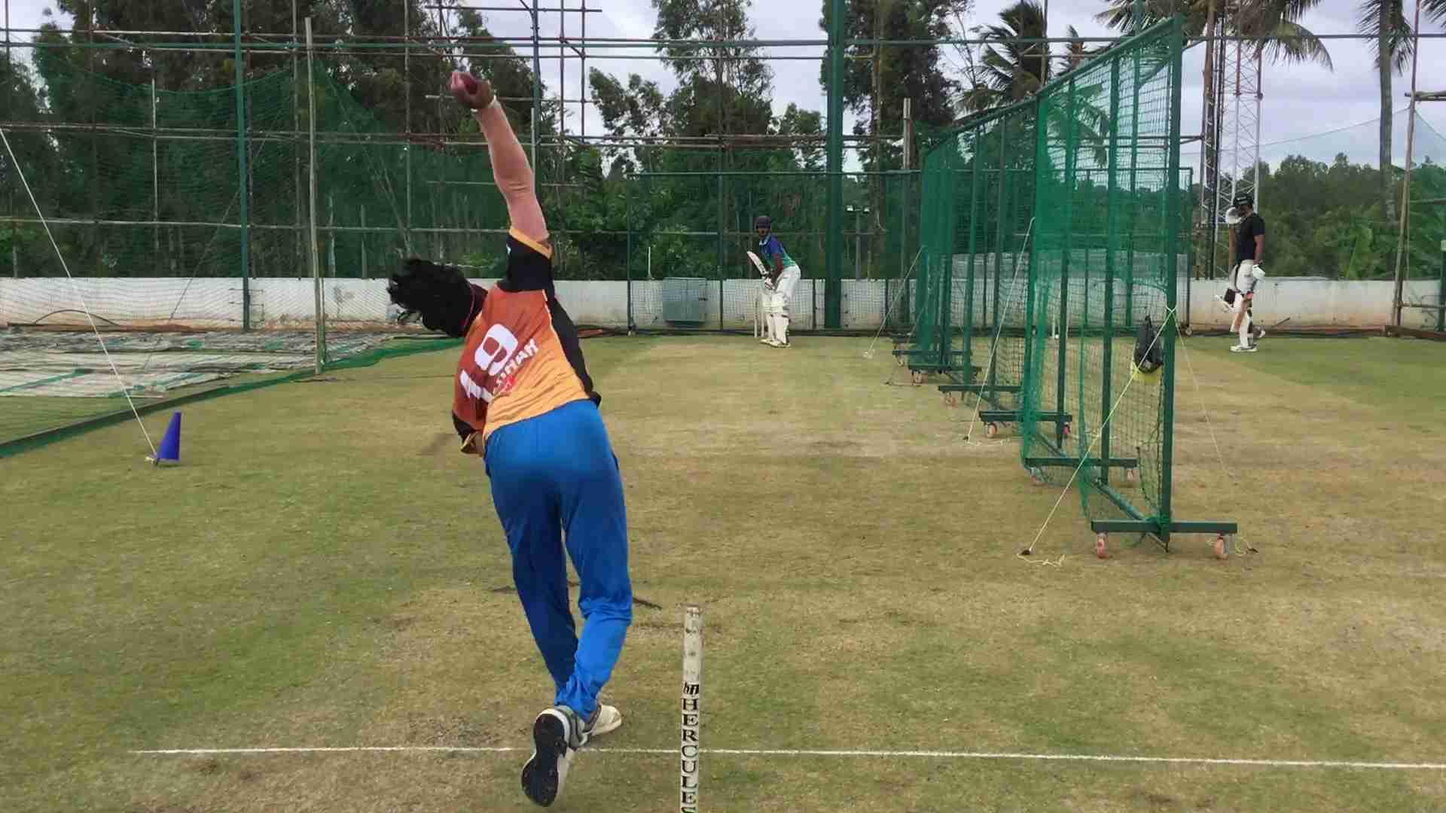batsman: (745, 208, 805, 349)
